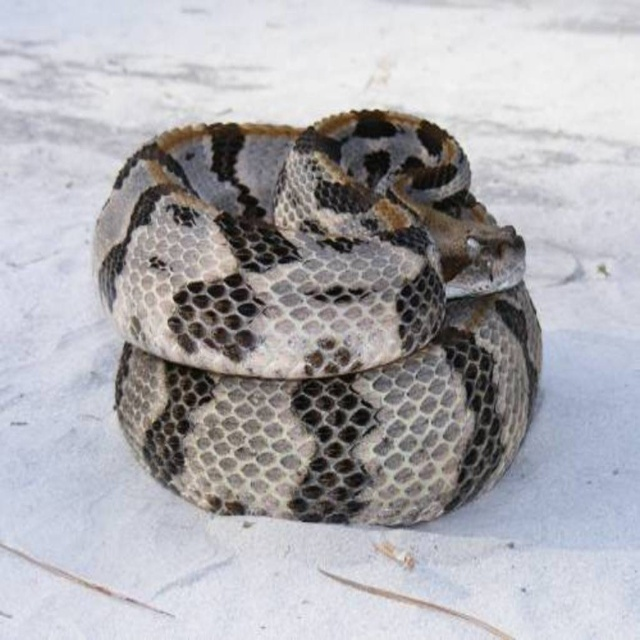Snake: (90, 103, 544, 522)
